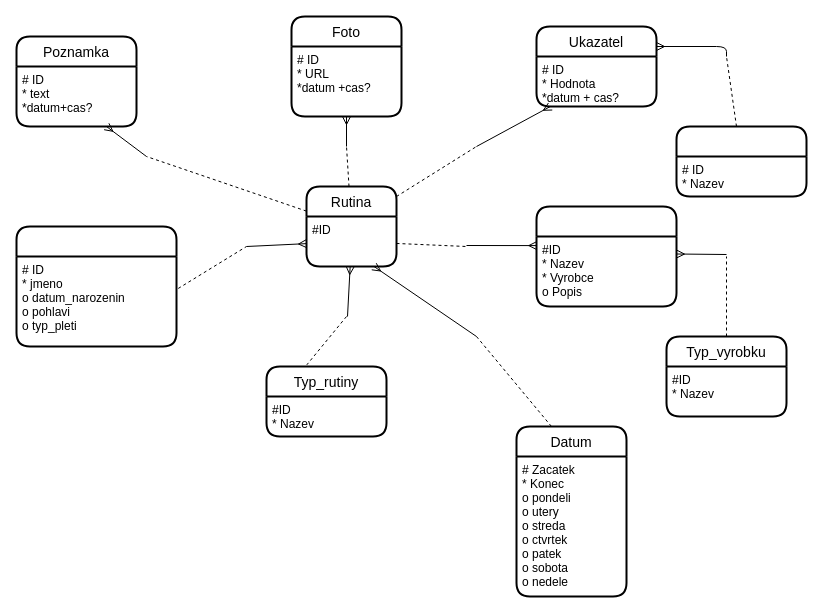
Some shapes in this 823 by 613 pixel diagram are drawn without their labels. The shapes that lost their labels are listed below. From the top down, each one's box as (x1, y1, x2, y2) in pixels, then its label:
(675, 125, 807, 197): Typ_ukazatele
(535, 205, 677, 307): Vyrobek
(15, 225, 177, 347): Uzivatel
